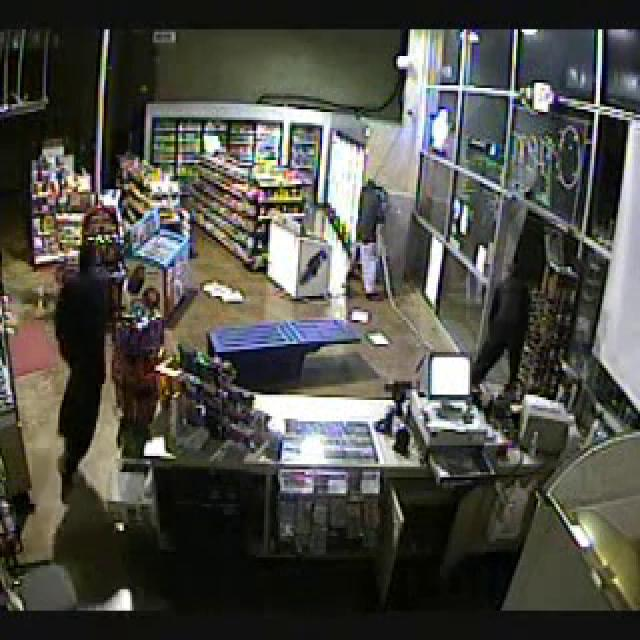burglary: (242, 81, 599, 538)
